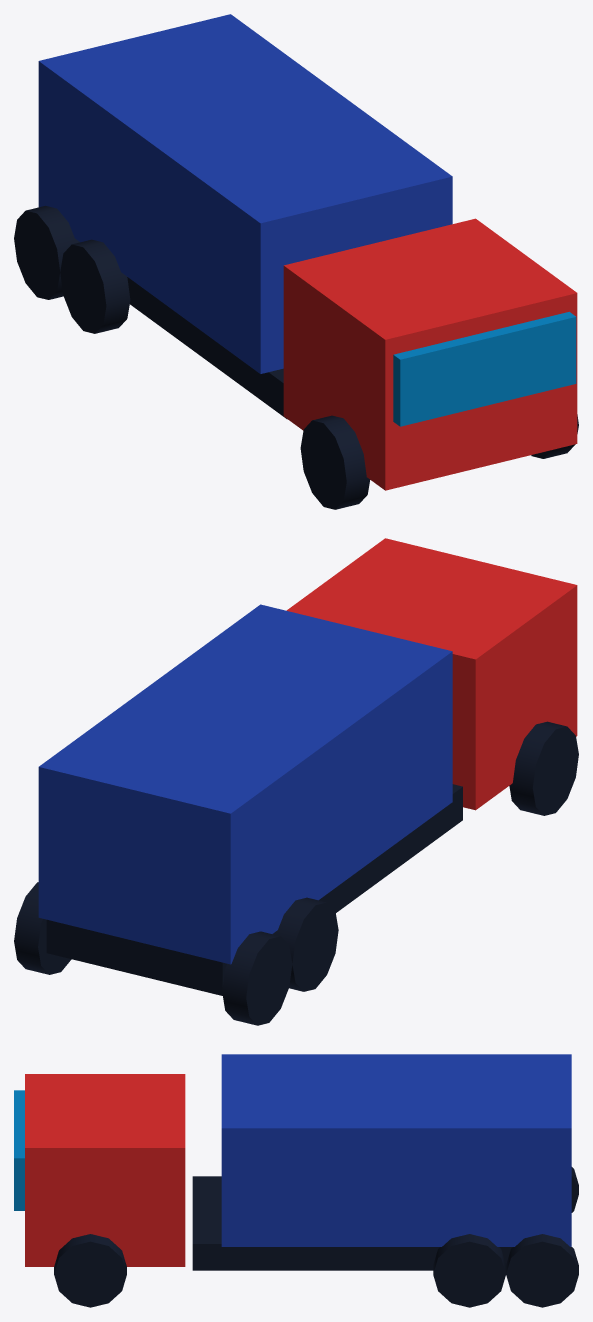
Rendered from vehicle_container.glb.
The picture shows the model from 3 angles, top to bottom: view 1: azimuth 30°, elevation 25°; view 2: azimuth 150°, elevation 25°; view 3: azimuth 270°, elevation 25°; orthographic projection. The views are drawn at different scales.
Parts seen in each view (by area): view 1: Vehicle_Container; view 2: Vehicle_Container; view 3: Vehicle_Container.
Boxes of the visible parts, box(x1,y1,x2,y2) form: Vehicle_Container: box(14, 14, 578, 509); Vehicle_Container: box(14, 538, 578, 1025); Vehicle_Container: box(14, 1054, 578, 1307).
Bounding box in the file's own units: 0.29 × 0.26 × 0.775.
